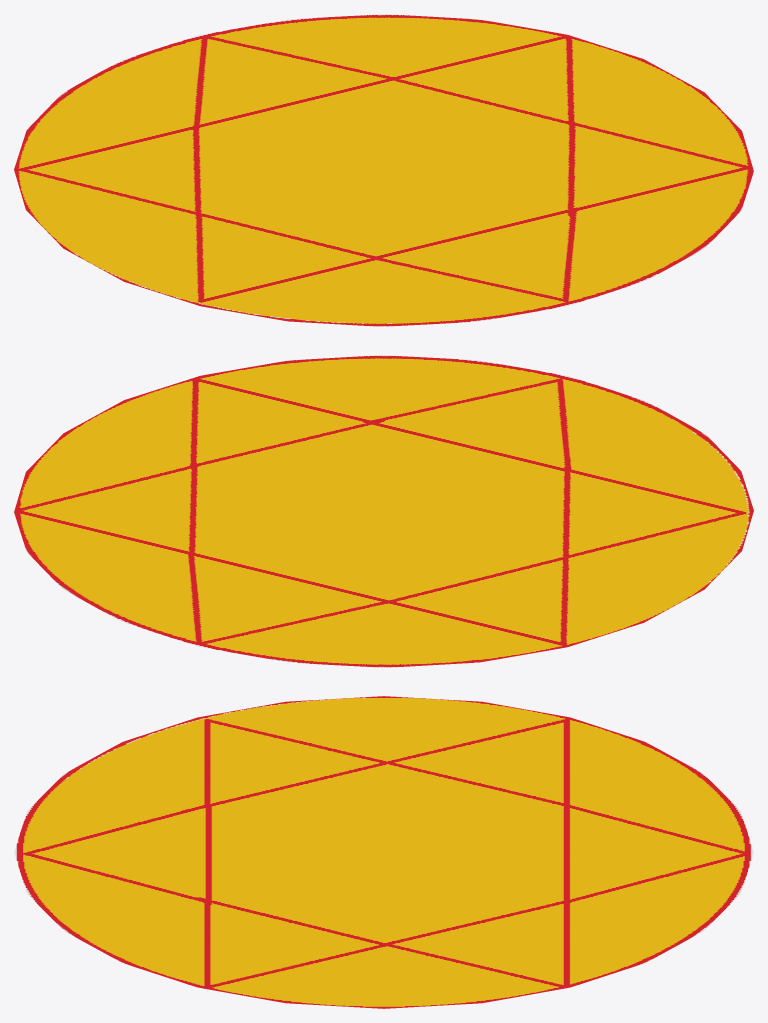
The model's file is 無敵金身.fbx.
The picture shows the model from 3 angles, top to bottom: view 1: azimuth 30°, elevation 25°; view 2: azimuth 150°, elevation 25°; view 3: azimuth 270°, elevation 25°; orthographic projection.
Visible parts, largest first — view 1: 無敵金身; view 2: 無敵金身; view 3: 無敵金身.
Part boxes in pixels (x1,y1,x2,y2): 無敵金身: (14, 14, 753, 326); 無敵金身: (14, 355, 753, 667); 無敵金身: (14, 696, 753, 1008).
Size of the model in its own units: 4 by 2.45e-16 by 4.
Materials: 1 (1 with a texture image).
